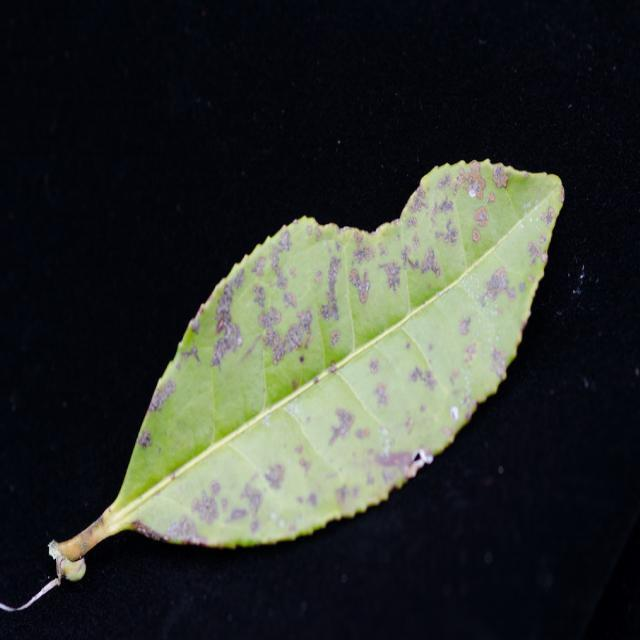Tea red rust: (146, 172, 521, 543)
